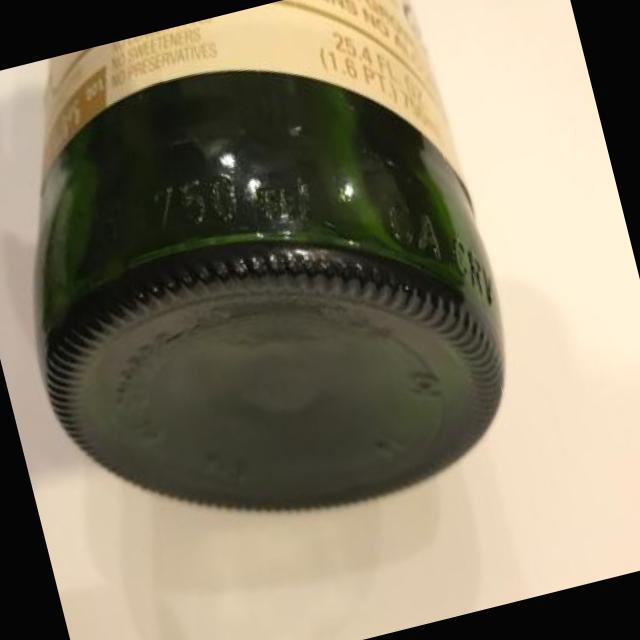chai_thuy_tinh: (34, 0, 504, 510)
